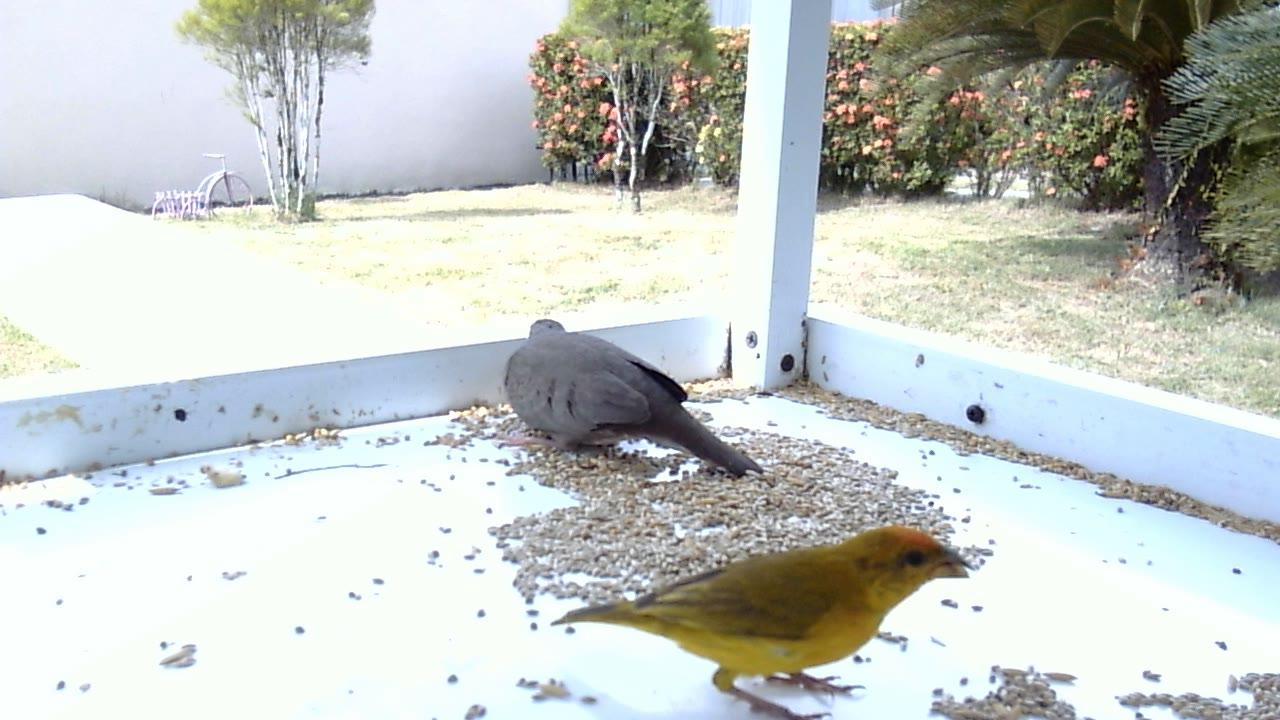canario_do_amazonas: (548, 522, 980, 720)
rolinha: (490, 315, 767, 483)
